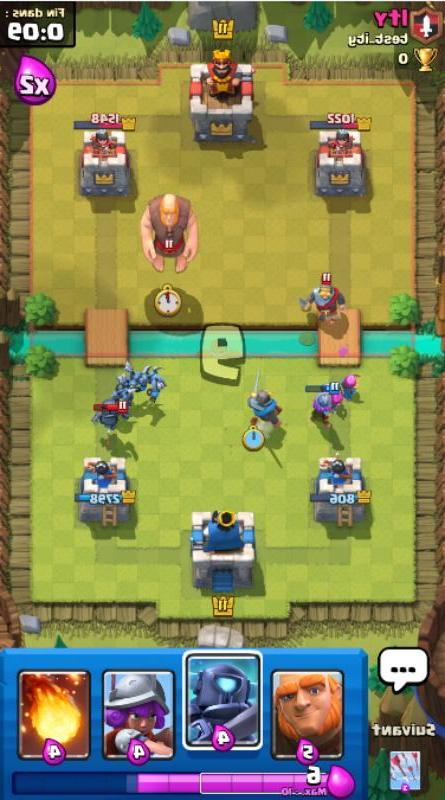archere: (337, 372, 362, 401), (325, 377, 344, 414)
chevalier: (299, 271, 347, 326), (247, 367, 284, 428)
gargouille: (122, 360, 151, 394), (143, 366, 169, 403), (111, 374, 137, 407)
geant: (139, 193, 200, 274)
mini_PEKKA: (90, 398, 130, 431)
mousquetaire: (303, 381, 340, 430)
